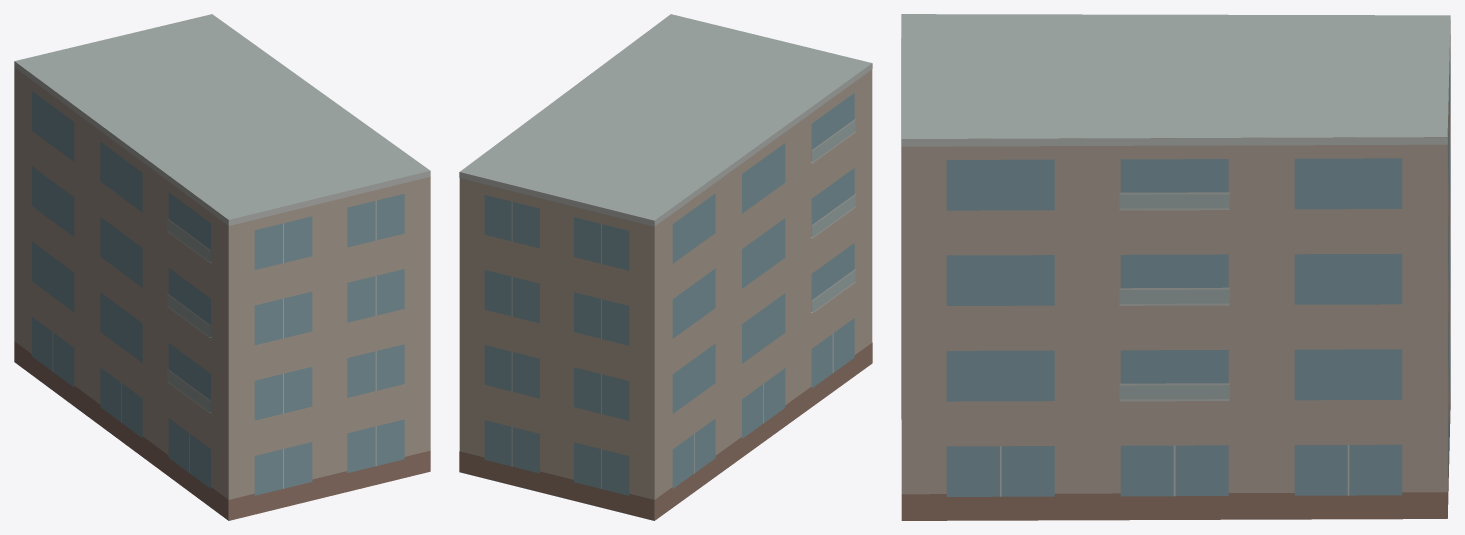
Rendered from survey-upis-32910913.glb.
3 renders of one model, left to right at view 1: azimuth 30°, elevation 25°; view 2: azimuth 150°, elevation 25°; view 3: azimuth 270°, elevation 25°, orthographic. The views are drawn at different scales.
Parts seen in each view (by area): view 1: survey-upis-32910913.tmp; view 2: survey-upis-32910913.tmp; view 3: survey-upis-32910913.tmp.
Boxes of the visible parts, <box> form: survey-upis-32910913.tmp: <box>14,14,430,520</box>; survey-upis-32910913.tmp: <box>459,14,872,520</box>; survey-upis-32910913.tmp: <box>901,14,1450,520</box>.
Size of the model in its own units: 8.6 by 12.2 by 15.92.
